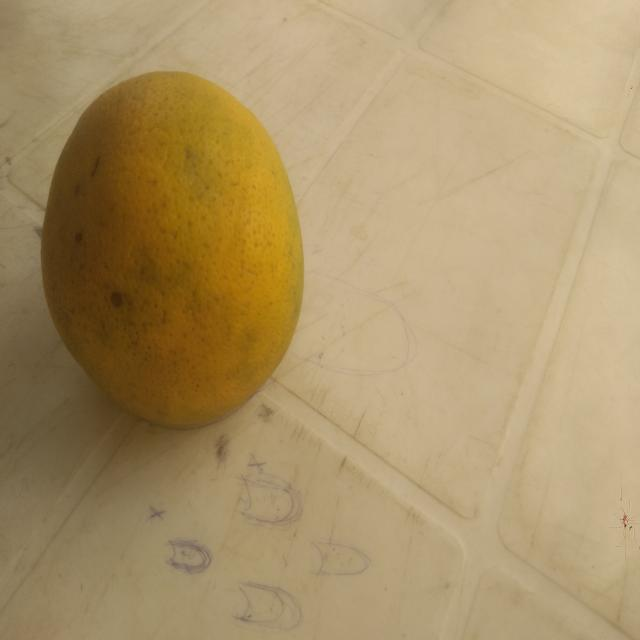Ripe orange: (31, 59, 315, 463)
